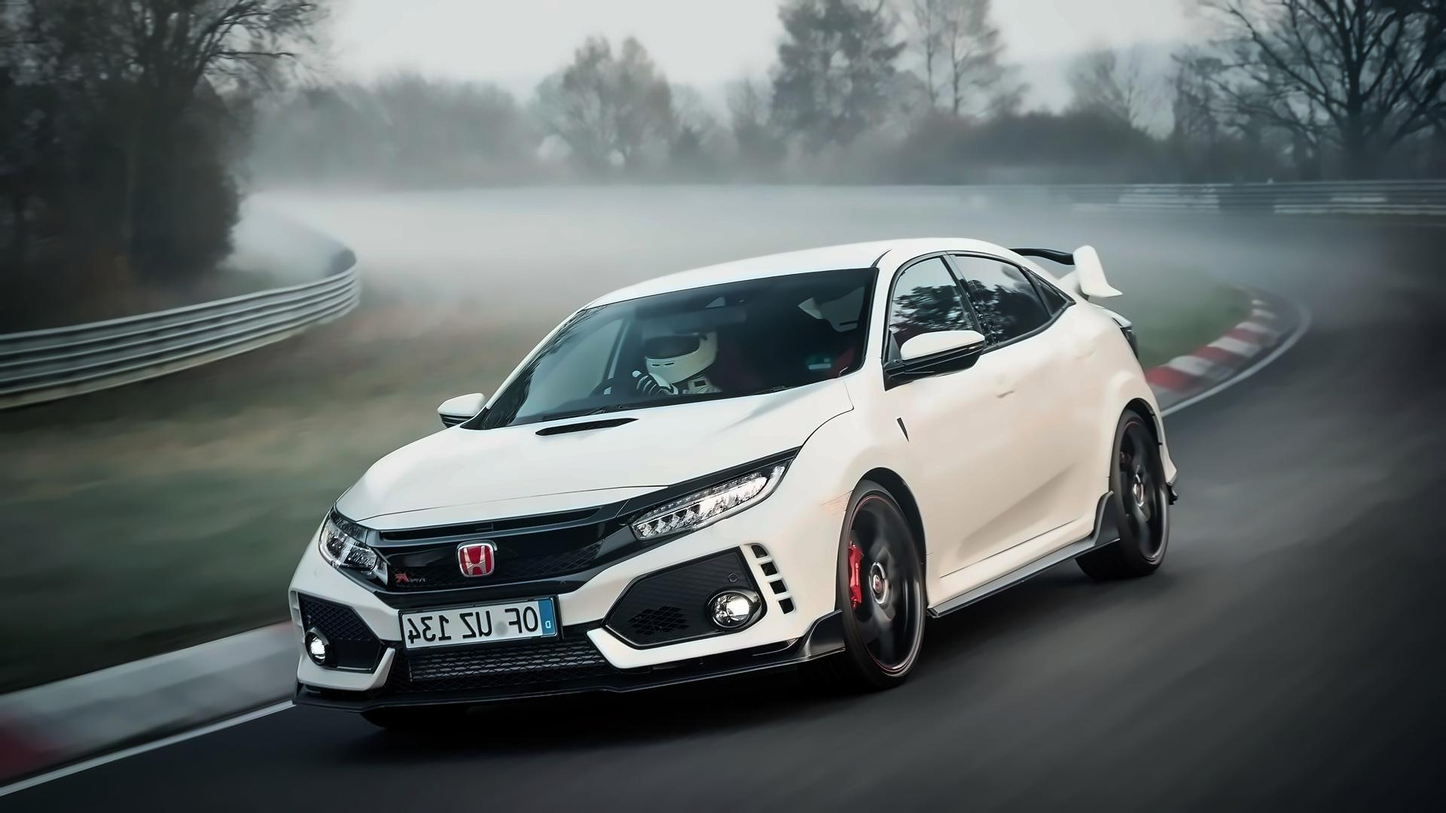Car hood: (336, 375, 854, 533)
Fender - -F-L-: (787, 353, 943, 643)
Fender - -R-L-: (1084, 321, 1150, 538)
Front bumper: (282, 553, 855, 715)
Headlight - -L-: (622, 438, 804, 545)
Headlight - -R-: (313, 499, 403, 601)
Passenger-s door - -F-L-: (875, 240, 1022, 587)
Passenger-s door - -R-L-: (962, 239, 1119, 556)
Rear bumper: (1142, 402, 1210, 511)
Rear light - -L-: (1103, 303, 1148, 359)
Side bumper - -L-: (917, 486, 1126, 622)
Side mirror - -L-: (884, 318, 989, 381)
Side mirror - -R-: (426, 380, 499, 437)
